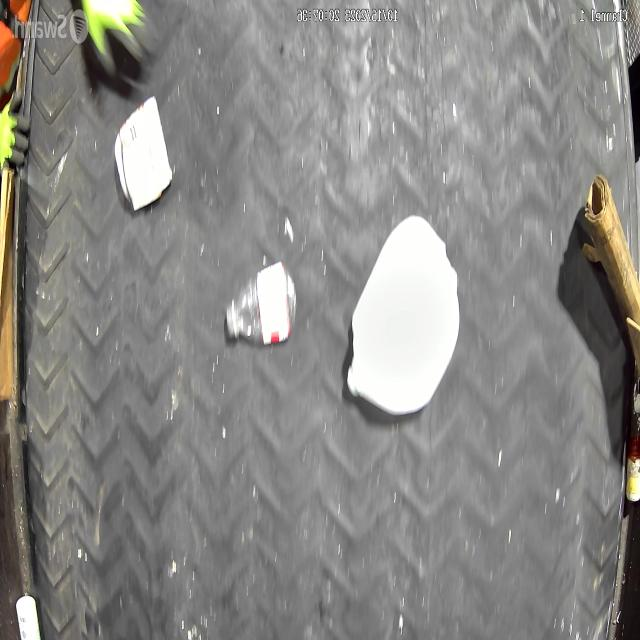milk_jug: (346, 214, 461, 415)
plastic_bottle: (225, 259, 298, 348)
